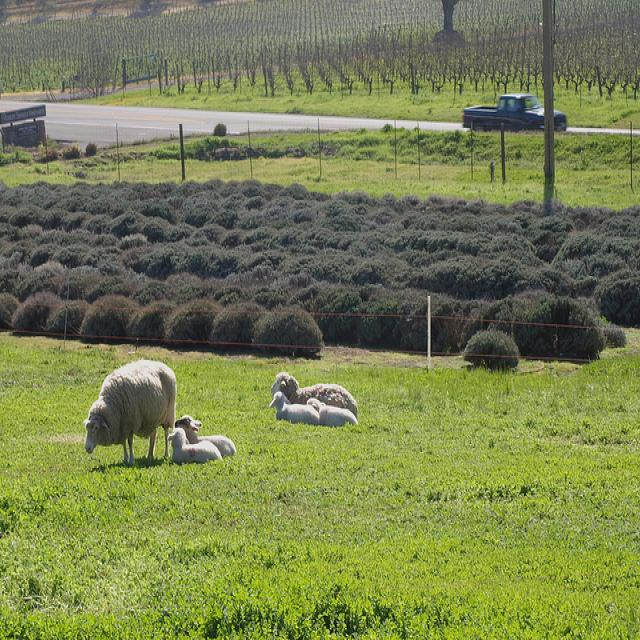Vehicle: (462, 92, 568, 130)
